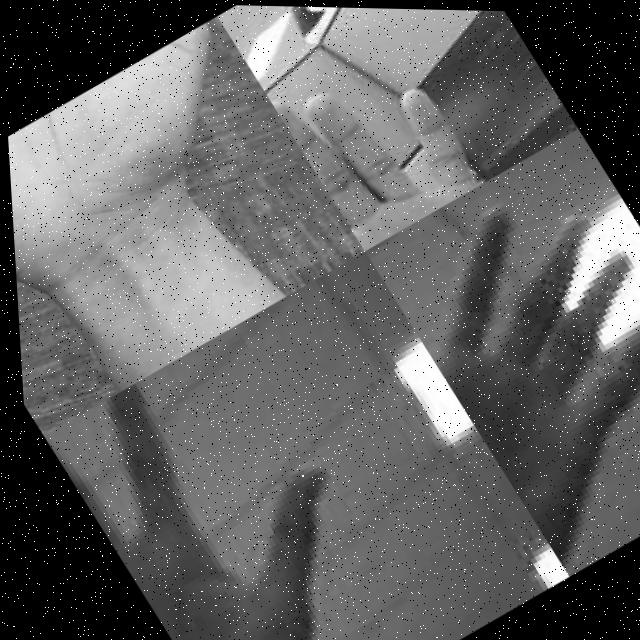hand: (1, 11, 349, 408), (31, 318, 435, 640), (366, 149, 640, 569), (265, 24, 492, 251)
